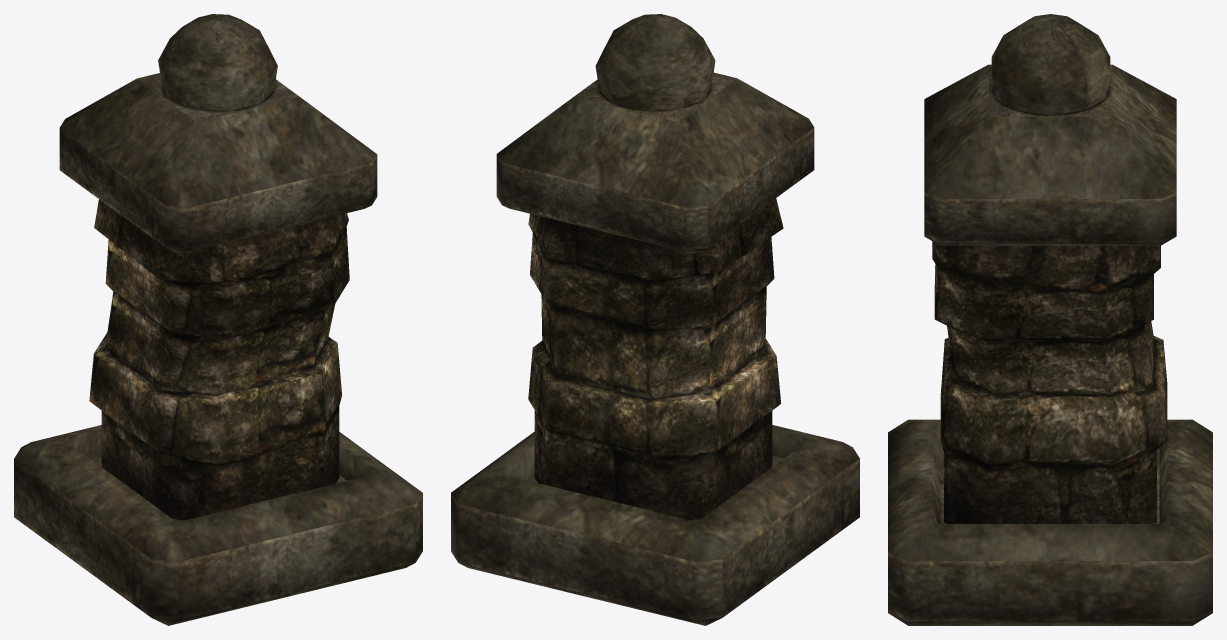
The model's file is welder.dae.
The picture shows the model from 3 angles, left to right: view 1: azimuth 30°, elevation 25°; view 2: azimuth 150°, elevation 25°; view 3: azimuth 270°, elevation 25°; orthographic projection. The views are drawn at different scales.
Parts seen in each view (by area): view 1: polySurface63; view 2: polySurface63; view 3: polySurface63.
Part boxes in pixels (x1,y1,x2,y2): polySurface63: (14, 14, 422, 625); polySurface63: (451, 14, 859, 625); polySurface63: (888, 14, 1212, 625).
Bounding box in the file's own units: 1 × 1.85 × 1.
